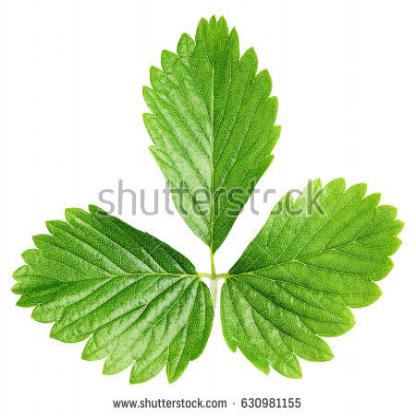strawberry leaf: (219, 170, 408, 390), (6, 202, 217, 383), (141, 7, 284, 250)
